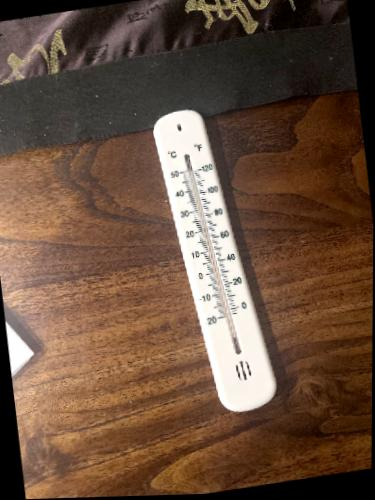thermo: (151, 101, 280, 415)
